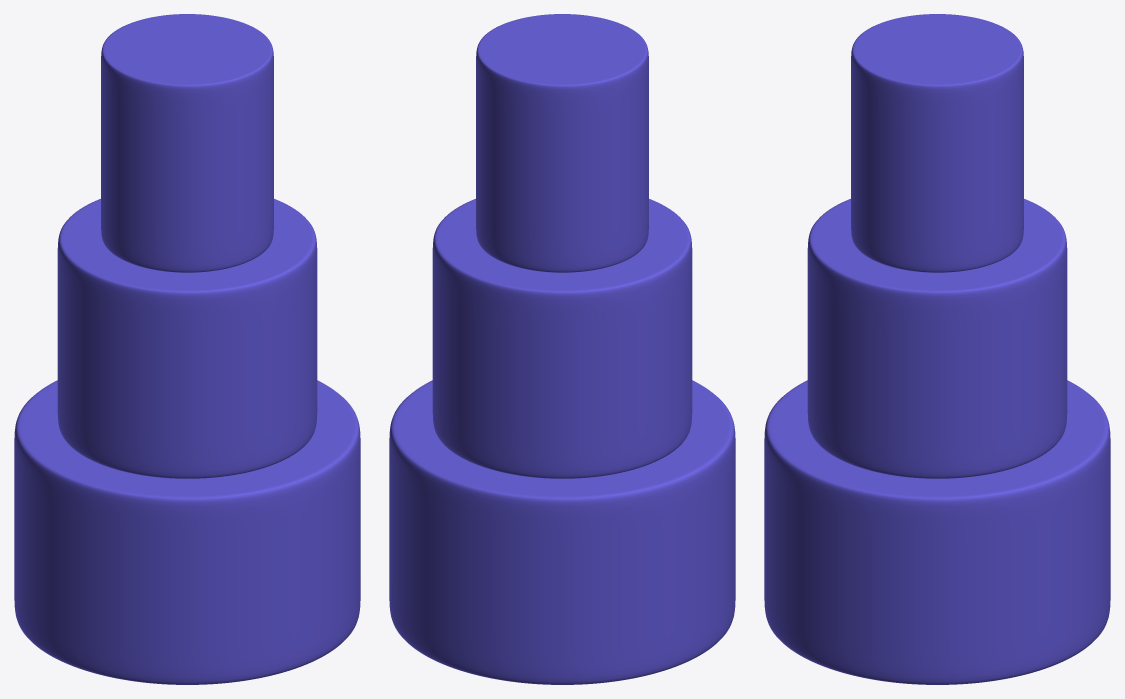
File: Cake_Layer_3_Purple.glb
3 renders of one model, left to right at view 1: azimuth 30°, elevation 25°; view 2: azimuth 150°, elevation 25°; view 3: azimuth 270°, elevation 25°, orthographic.
Visible parts, largest first — view 1: Circle.001, Circle.002, Circle.003; view 2: Circle.001, Circle.002, Circle.003; view 3: Circle.001, Circle.002, Circle.003.
Boxes of the visible parts, box(x1,y1,x2,y2) form: Circle.001: box(14, 380, 360, 684); Circle.002: box(57, 199, 317, 478); Circle.003: box(101, 14, 273, 272); Circle.001: box(389, 380, 735, 684); Circle.002: box(432, 199, 692, 478); Circle.003: box(476, 14, 648, 272); Circle.001: box(764, 380, 1110, 684); Circle.002: box(807, 199, 1067, 478); Circle.003: box(851, 14, 1023, 272).
Bounding box in the file's own units: 0.2 × 0.36 × 0.2.
